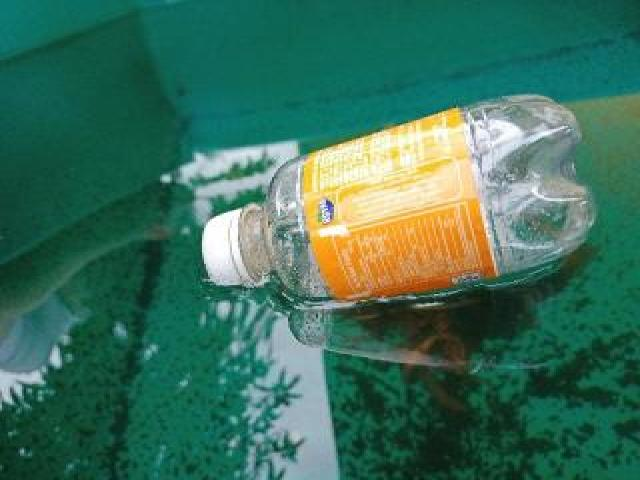Bottle: (165, 87, 609, 324)
